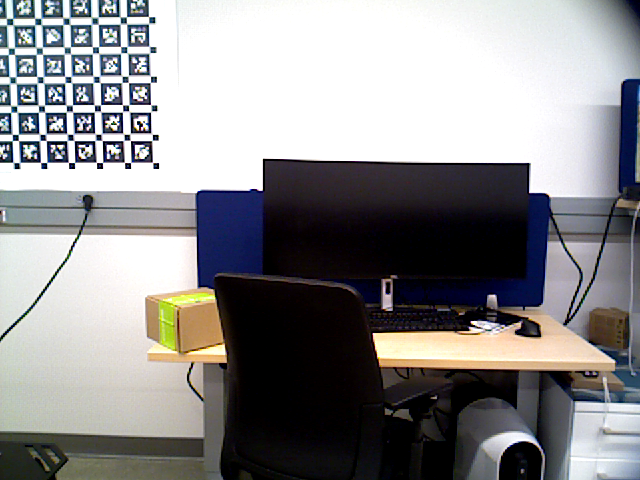painting4: (1, 1, 181, 191)
